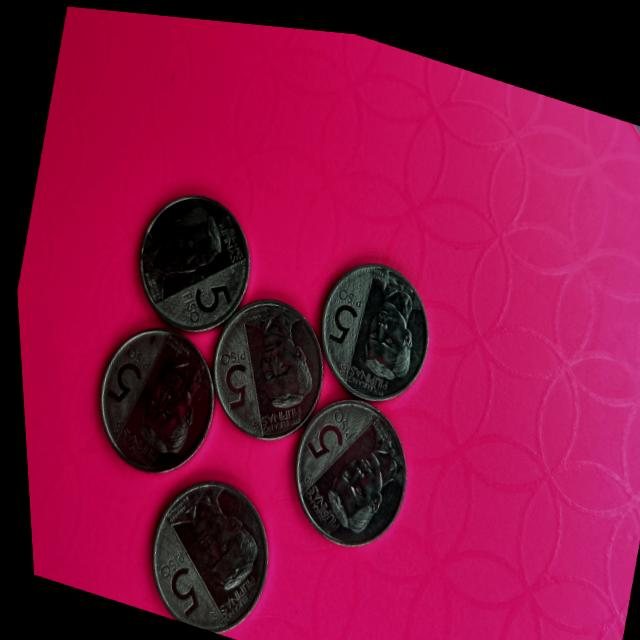5_New_Front: (162, 252, 239, 343), (91, 328, 156, 409), (193, 331, 254, 411), (297, 391, 361, 464), (145, 543, 207, 616), (313, 278, 363, 351)
